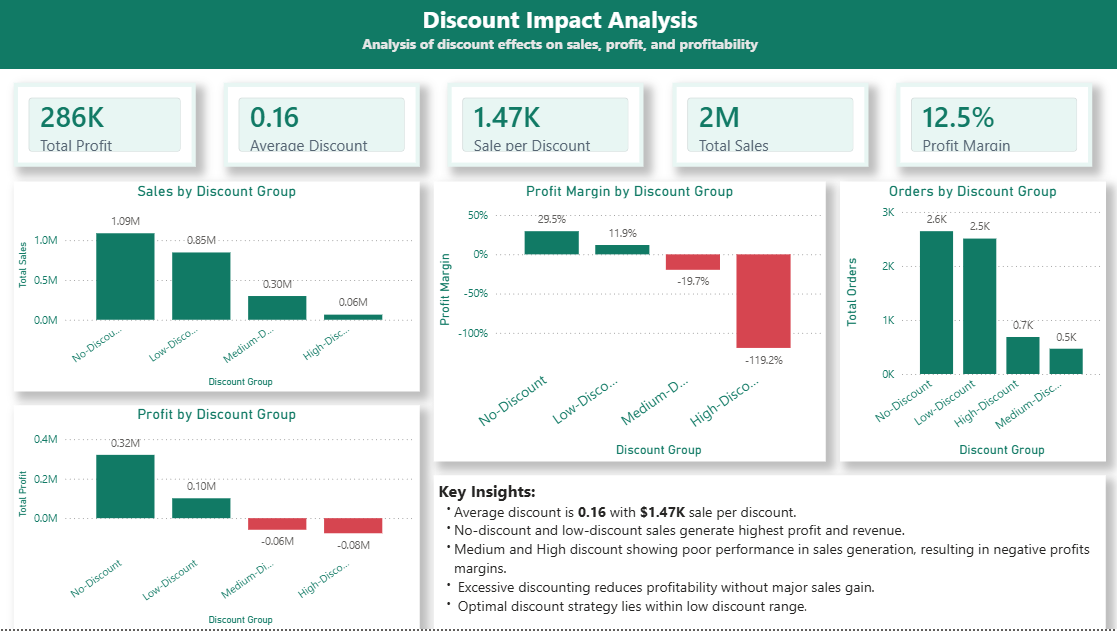

The page's visual inventory and layout, read from the dashboard file:
{"tool":"powerbi","page":{"name":"Discount Analysis","canvas":[1280,720],"ordinal":4},"visuals":[{"type":"textbox","box":[0,0,1280,80],"z":0},{"type":"cardVisual","fields":{"Data":["Sample - Superstore.Total Profit"]},"box":[16,96,208,96],"z":1000},{"type":"cardVisual","fields":{"Data":["Sample - Superstore.Average Discount"]},"box":[256,96,224,96],"z":2000},{"type":"cardVisual","fields":{"Data":["Sample - Superstore.Sale per Discount"]},"box":[512,96,224,96],"z":3000},{"type":"cardVisual","fields":{"Data":["Sample - Superstore.Total Sales"]},"box":[768,96,224,96],"z":4000},{"type":"cardVisual","fields":{"Data":["Sample - Superstore.Profit Margin"]},"box":[1024,96,224,96],"z":5000},{"type":"clusteredColumnChart","title":"Sales by Discount Group","fields":{"Category":["Sample - Superstore.Discount Group"],"Y":["Sample - Superstore.Total Sales"]},"box":[16,208,464,240],"z":6000},{"type":"clusteredColumnChart","title":"Profit by Discount Group","fields":{"Category":["Sample - Superstore.Discount Group"],"Y":["Sample - Superstore.Total Profit"]},"box":[16,464,464,256],"z":7000},{"type":"clusteredColumnChart","fields":{"Category":["Sample - Superstore.Discount Group"],"Y":["Sample - Superstore.Profit Margin"]},"box":[496,208,448,320],"z":8000},{"type":"clusteredColumnChart","title":"Orders by Discount Group","fields":{"Y":["Sample - Superstore.Total Orders"],"Category":["Sample - Superstore.Discount Group"]},"box":[960,208,304,320],"z":9000},{"type":"textbox","box":[496,544,768,176],"z":10000}]}

Visuals, with their boxes in screenshot pixels (x1, y1, x2, y2), scaled from the page's 1280x720 canvas onto the 1117x631 screenshot:
textbox: rect(0, 0, 1116, 70)
cardVisual - Sample - Superstore.Total Profit: rect(14, 84, 195, 168)
cardVisual - Sample - Superstore.Average Discount: rect(223, 84, 419, 168)
cardVisual - Sample - Superstore.Sale per Discount: rect(447, 84, 642, 168)
cardVisual - Sample - Superstore.Total Sales: rect(670, 84, 866, 168)
cardVisual - Sample - Superstore.Profit Margin: rect(894, 84, 1089, 168)
"Sales by Discount Group" clusteredColumnChart: rect(14, 182, 419, 393)
"Profit by Discount Group" clusteredColumnChart: rect(14, 407, 419, 630)
clusteredColumnChart - Sample - Superstore.Discount Group x Sample - Superstore.Profit Margin: rect(433, 182, 824, 463)
"Orders by Discount Group" clusteredColumnChart: rect(838, 182, 1103, 463)
textbox: rect(433, 477, 1103, 630)
